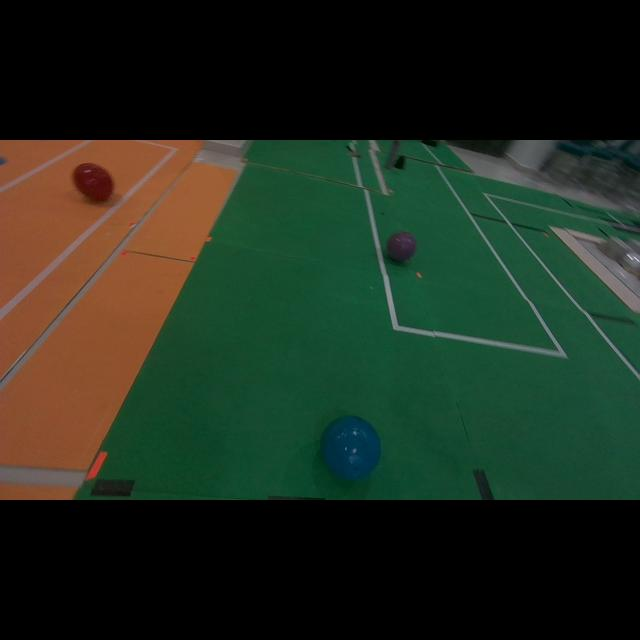B: (321, 416, 381, 480)
P: (386, 231, 416, 262)
R: (72, 162, 114, 201)
